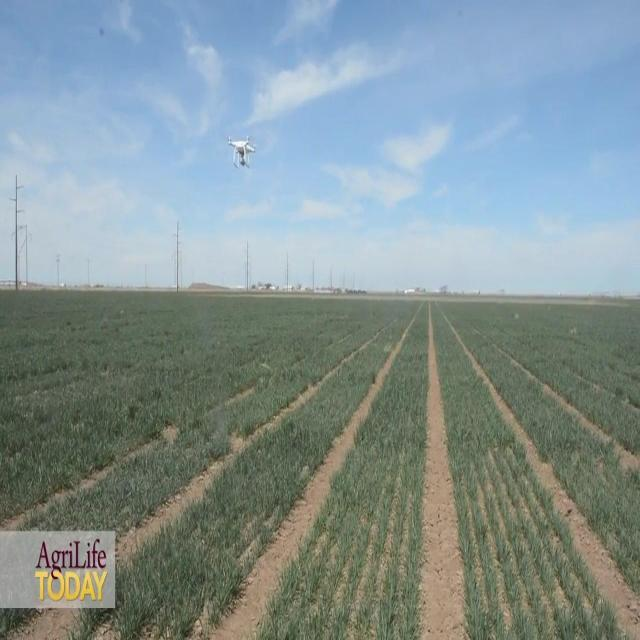drone: (226, 131, 259, 173)
